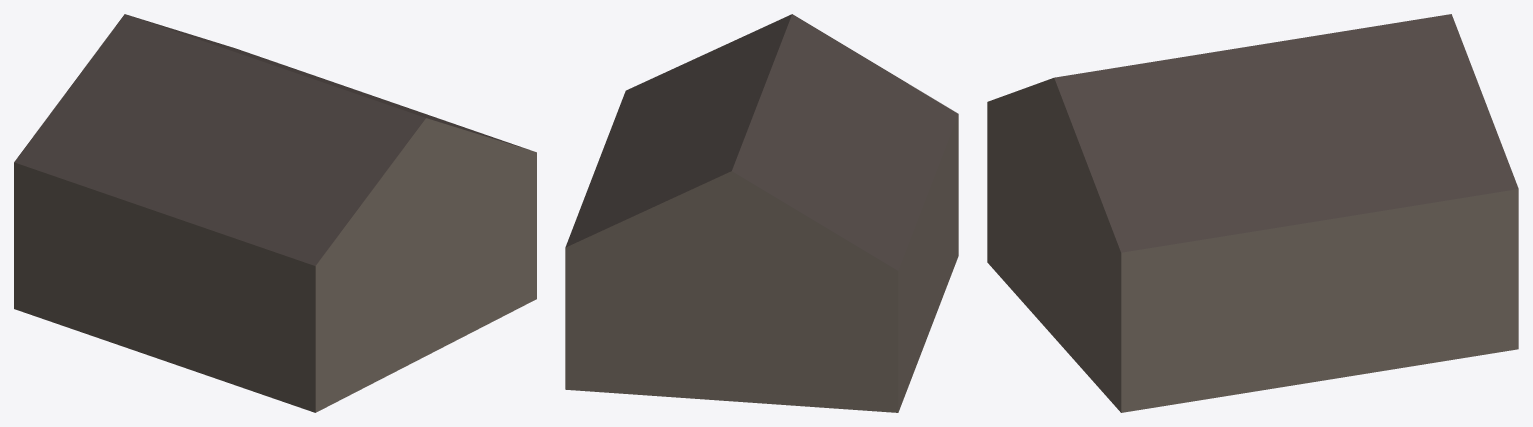
3 views of the same model, side by side, from view 1: azimuth 30°, elevation 25°; view 2: azimuth 150°, elevation 25°; view 3: azimuth 270°, elevation 25° (orthographic). The views are drawn at different scales.
Parts seen in each view (by area): view 1: HP-w1376988783; view 2: HP-w1376988783; view 3: HP-w1376988783.
Boxes of the visible parts, x1,y1,x2,y2 form: HP-w1376988783: [14, 14, 536, 412]; HP-w1376988783: [565, 14, 958, 412]; HP-w1376988783: [987, 14, 1518, 412].
Size of the model in its own units: 17.22 by 9.73 by 18.04.
